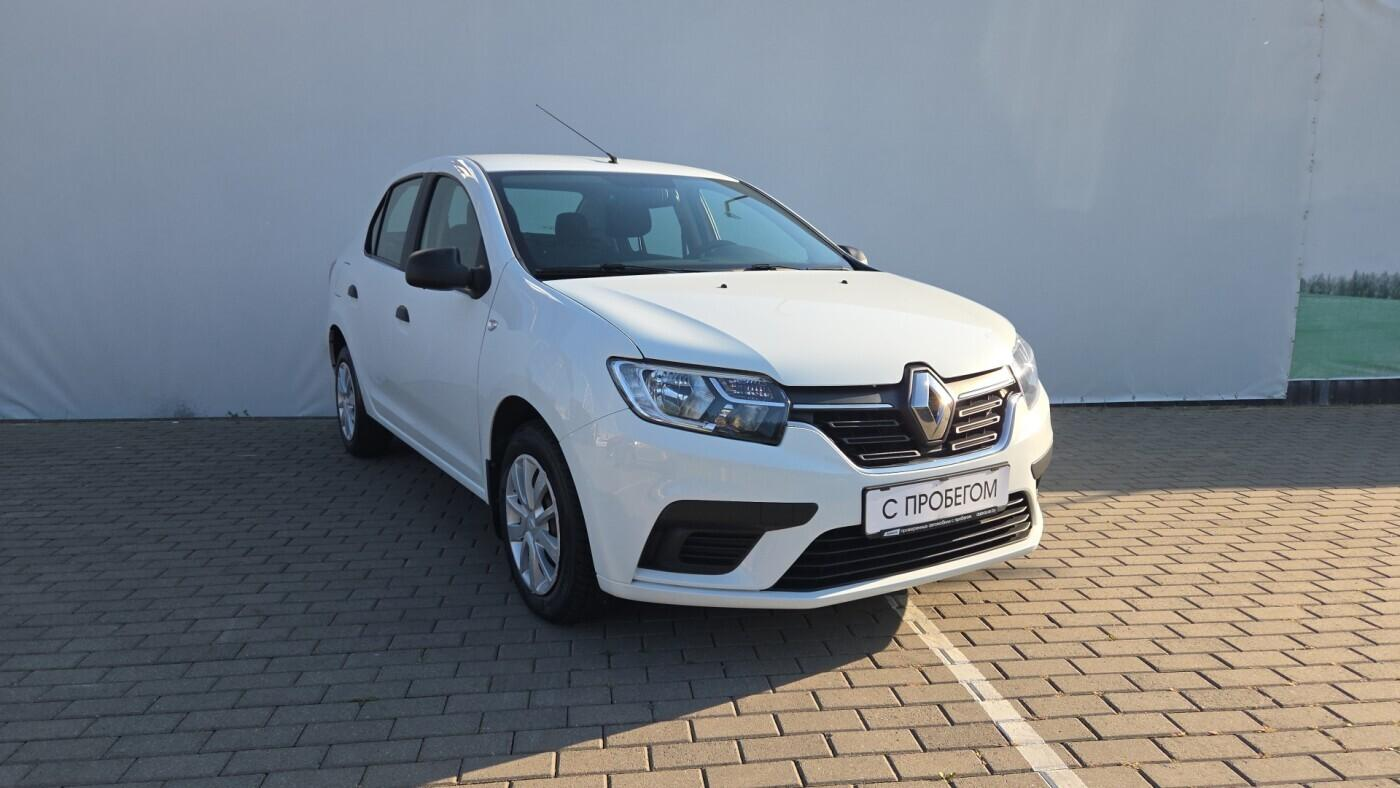Logan_2018: (335, 147, 1055, 633)
